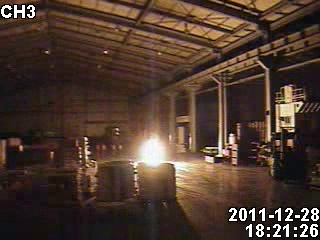fire: (139, 139, 165, 165)
